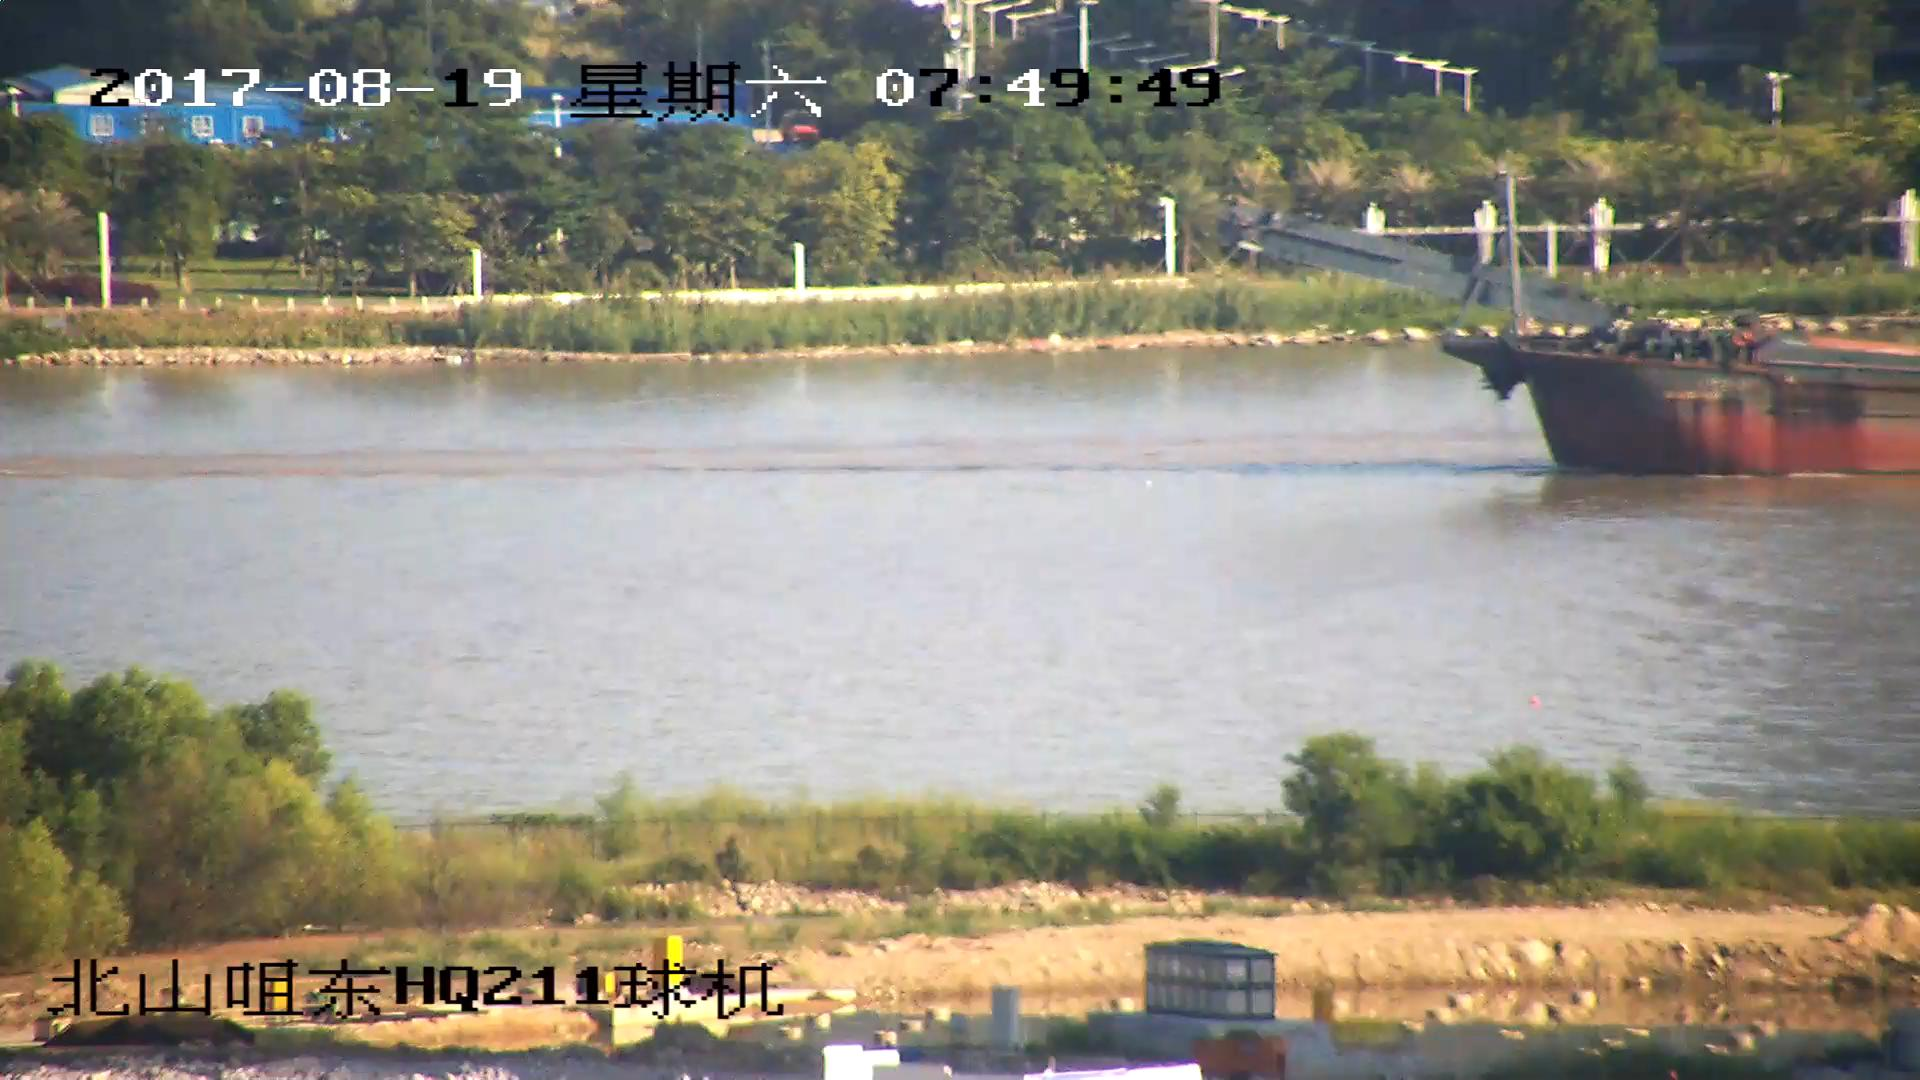bulk cargo carrier: (1237, 202, 1920, 472)
